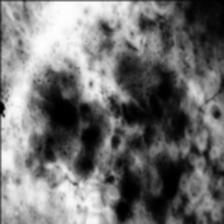Potentially Malignant Skin Tumors: (18, 14, 223, 224)
